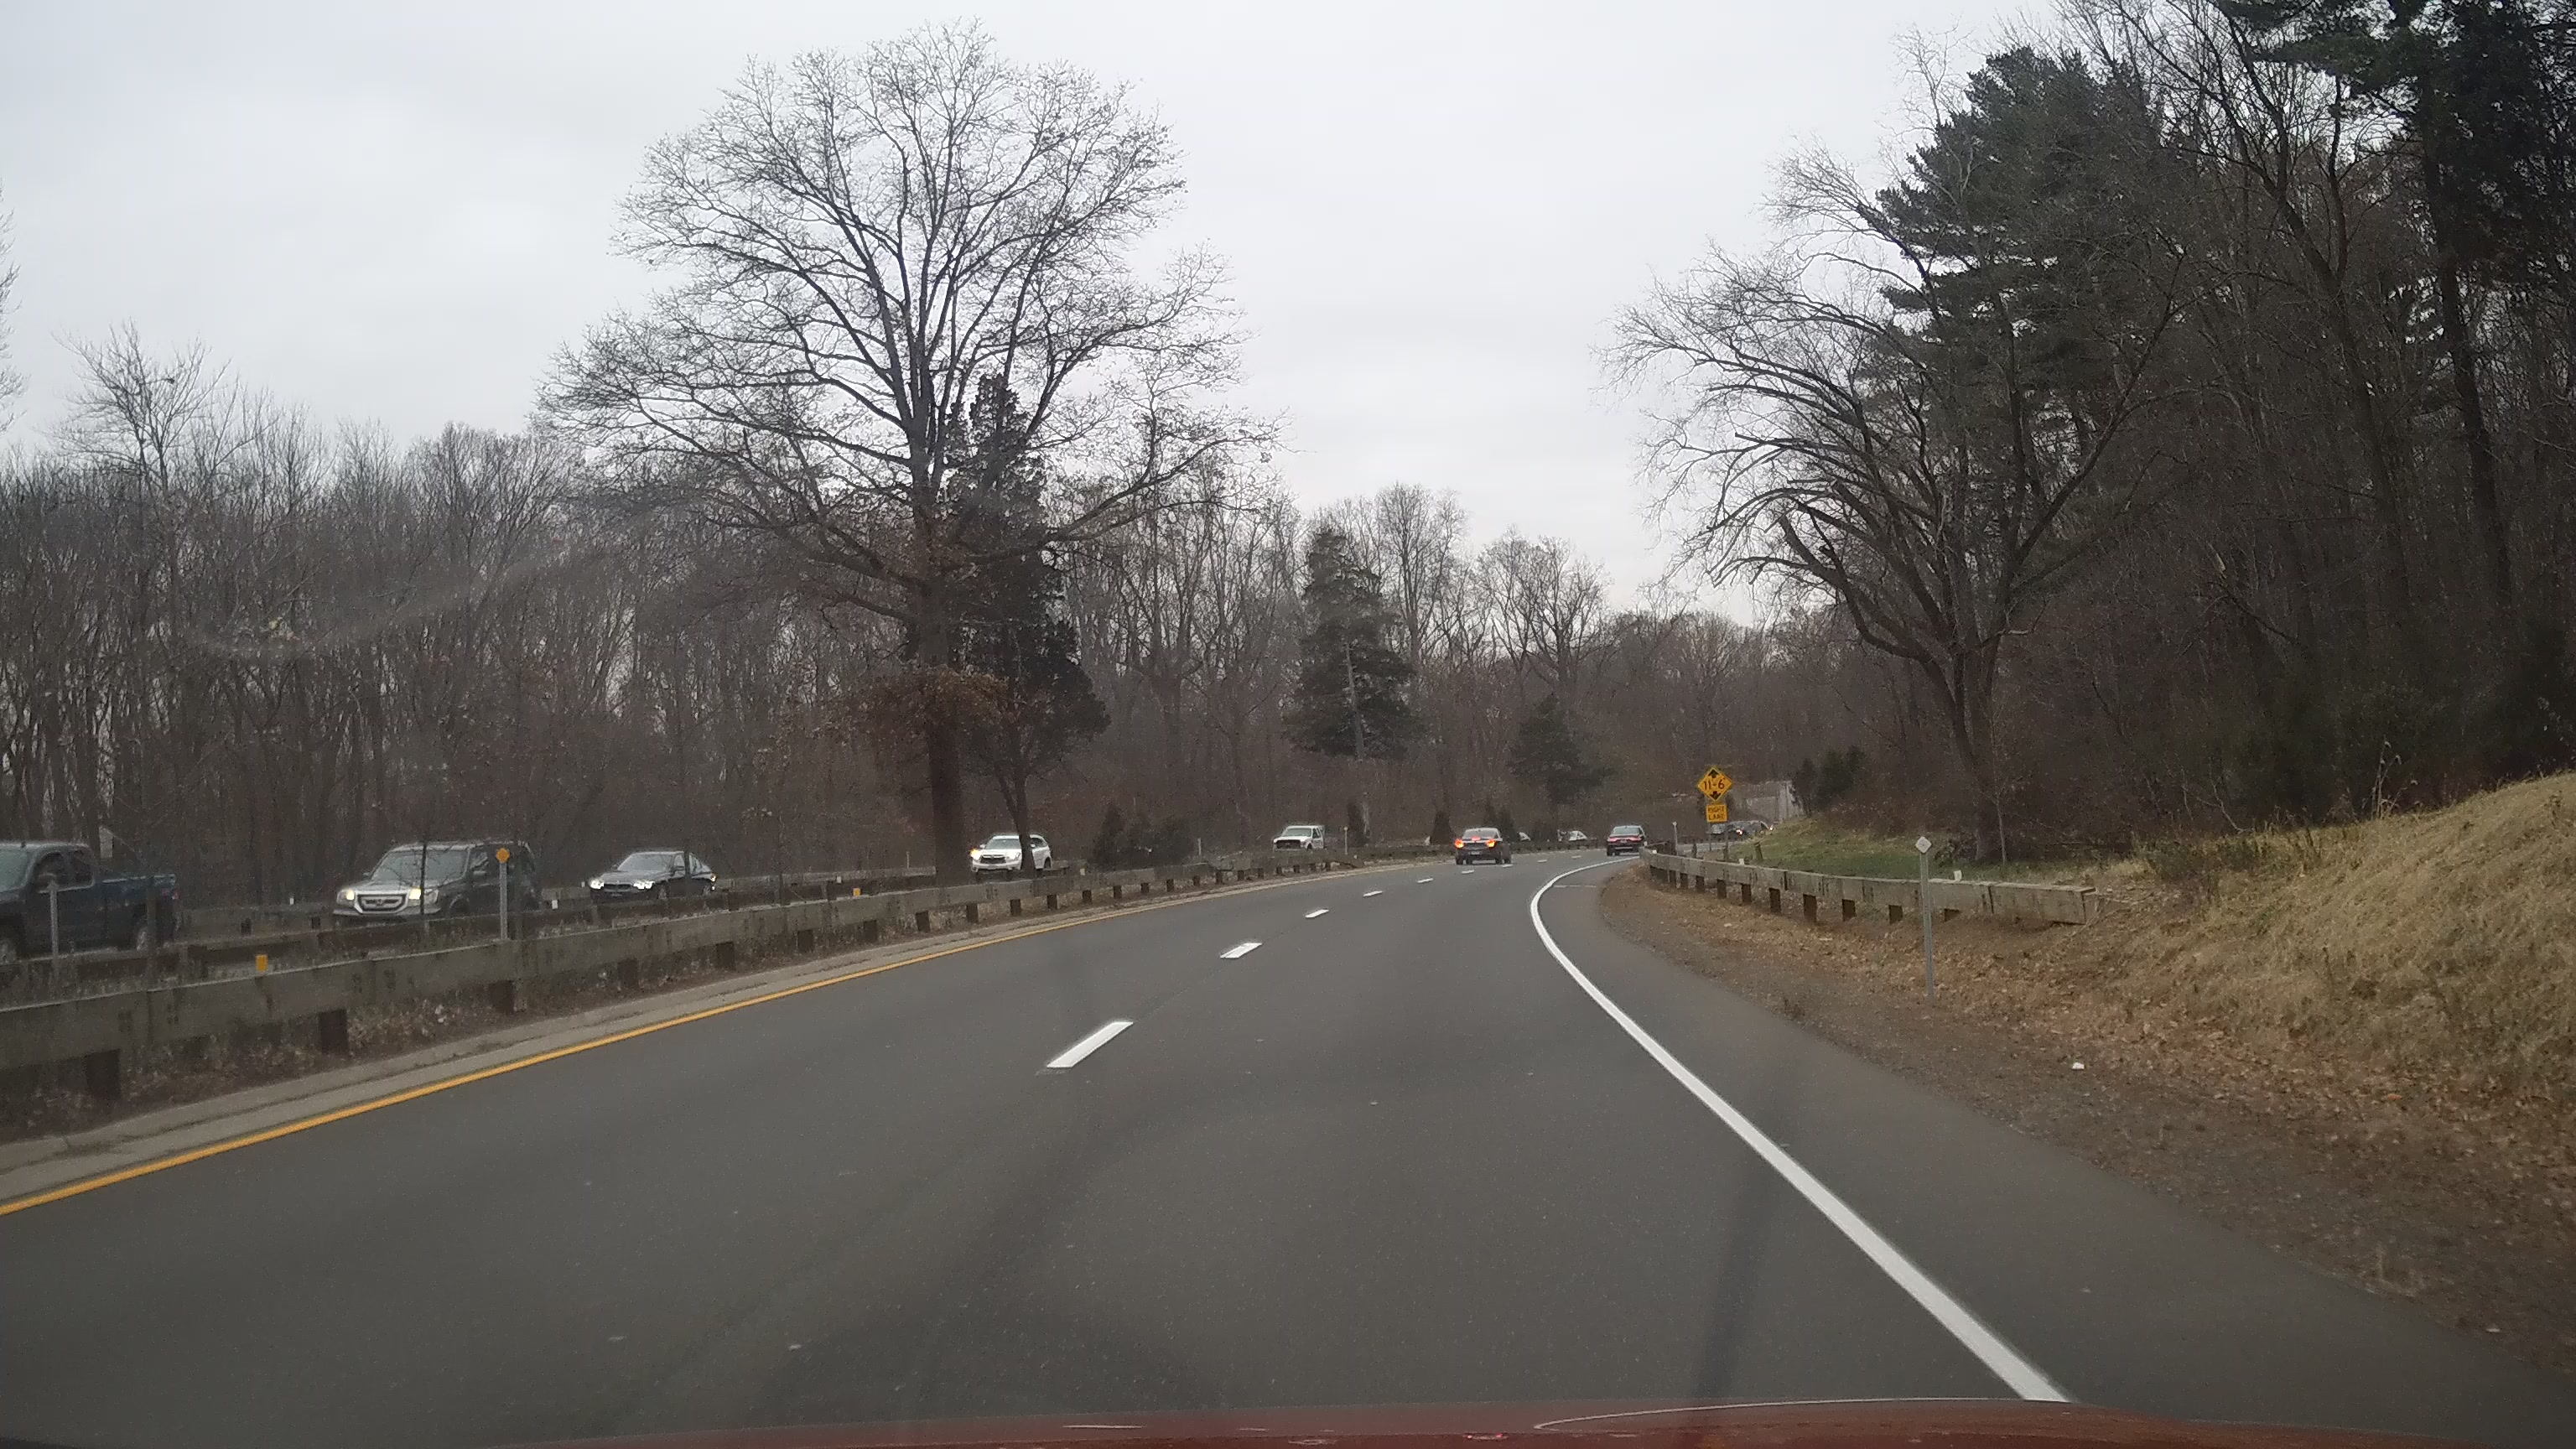low-clearance-sign: (1695, 764, 1732, 803)
